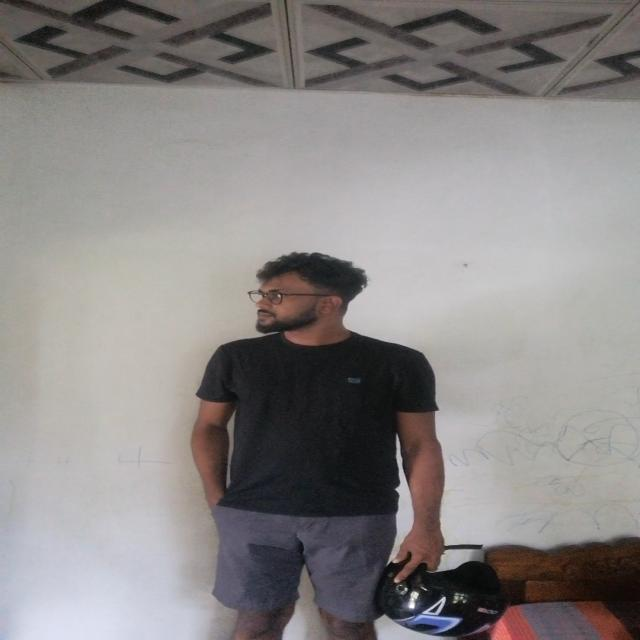Person: (181, 250, 447, 640)
